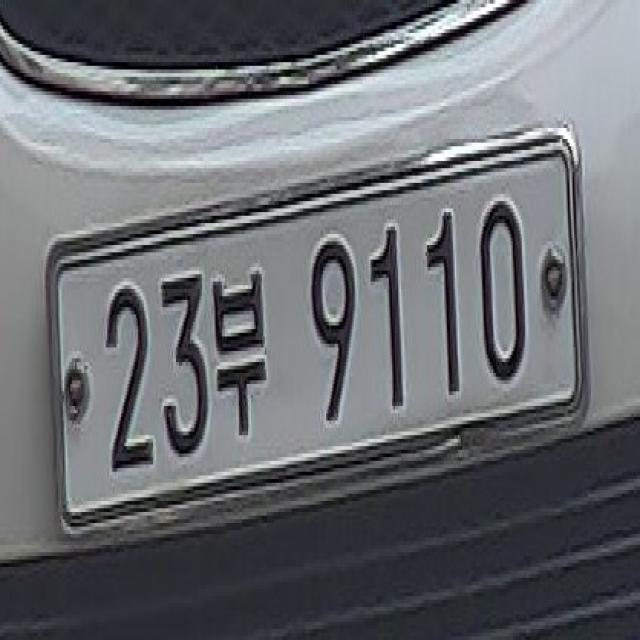plat: (43, 118, 588, 536)
